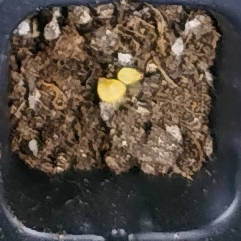chilli seed: (97, 77, 125, 101), (117, 66, 143, 84)
